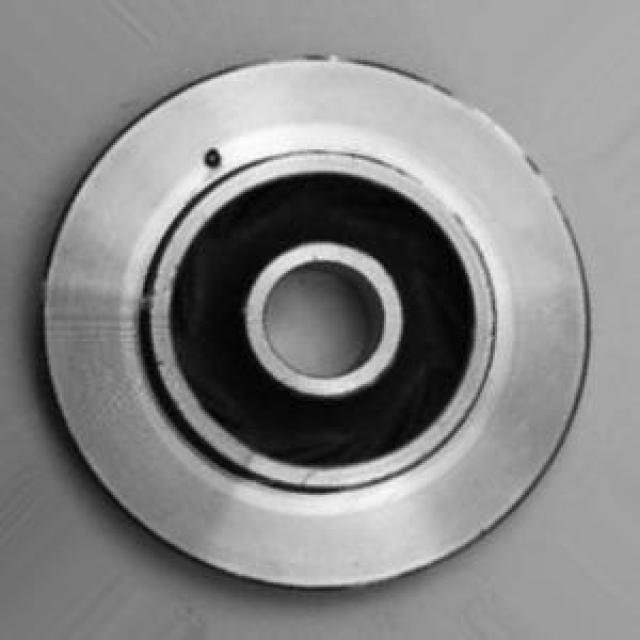Defect: (200, 141, 238, 166)
